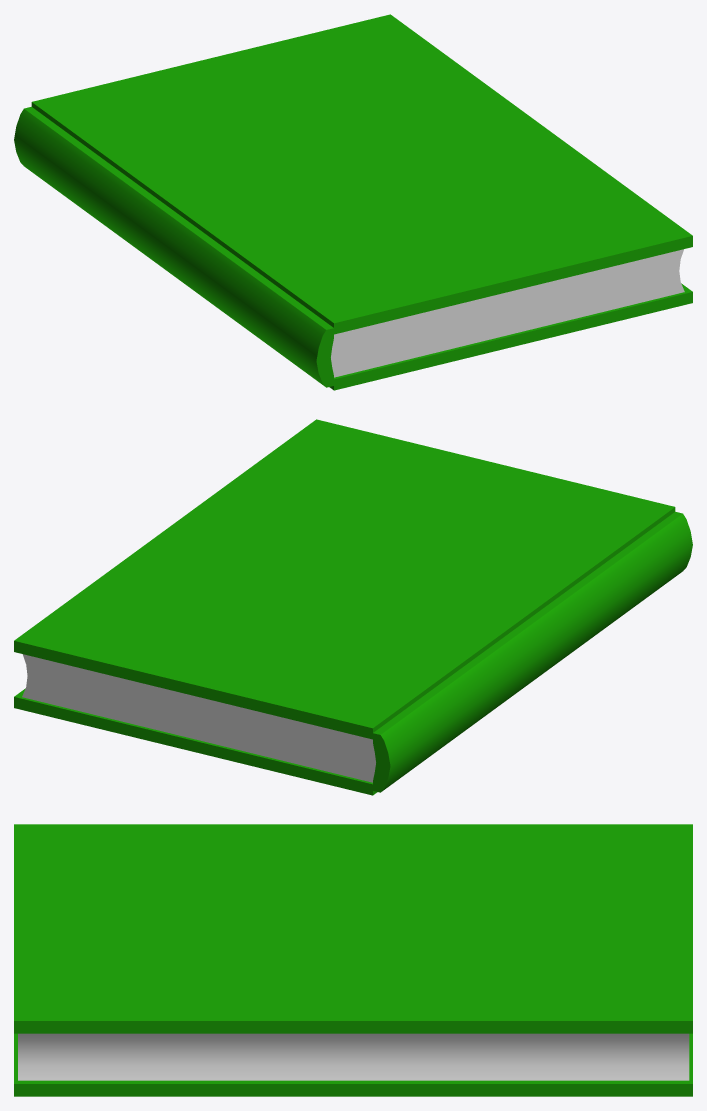
Rendered from GreenBook.fbx.
3 views of the same model, one above another, from view 1: azimuth 30°, elevation 25°; view 2: azimuth 150°, elevation 25°; view 3: azimuth 270°, elevation 25° (orthographic). The views are drawn at different scales.
Visible parts, largest first — view 1: pCube1.007, pCube1.006; view 2: pCube1.007, pCube1.006; view 3: pCube1.007, pCube1.006.
Boxes of the visible parts, x1,y1,x2,y2 form: pCube1.007: (14, 14, 692, 390); pCube1.006: (331, 249, 684, 377); pCube1.007: (14, 419, 692, 795); pCube1.006: (22, 654, 375, 782); pCube1.007: (14, 824, 692, 1096); pCube1.006: (18, 1033, 689, 1080).
Bounding box in the file's own units: 176 × 30 × 244.
